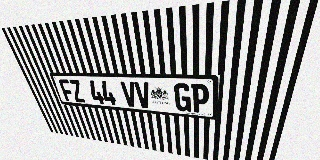4: (99, 80, 117, 105), (87, 80, 105, 104)
F: (58, 79, 76, 102)
G: (174, 83, 191, 112)
P: (191, 83, 209, 113)
V: (120, 81, 138, 107), (134, 82, 152, 108)
Z: (68, 79, 86, 103)
